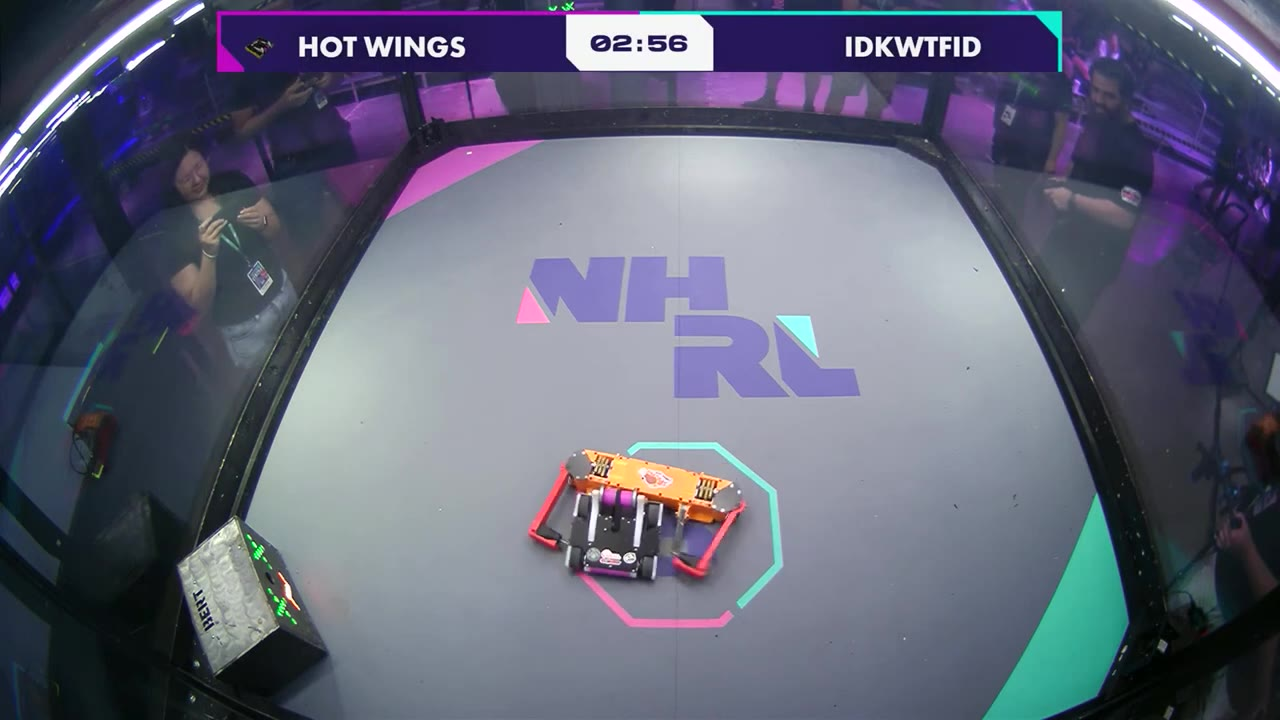combatbot: (527, 447, 744, 580), (564, 483, 659, 583)
housebot: (174, 517, 329, 692)
